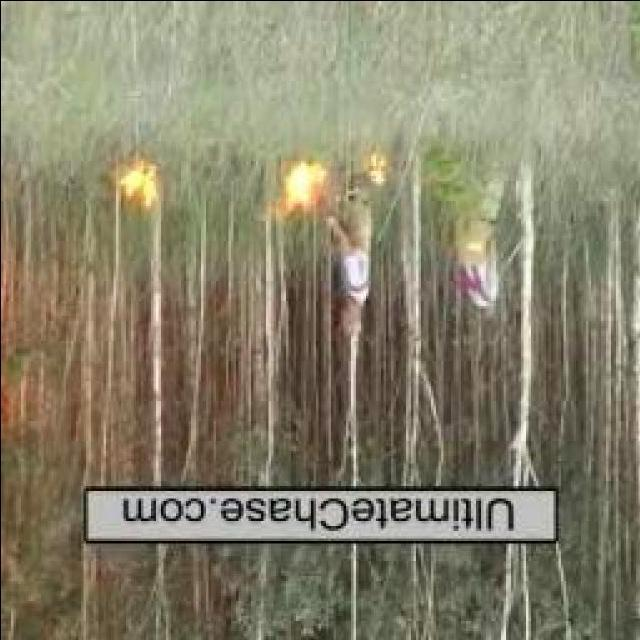Fire: (274, 160, 325, 216), (111, 160, 161, 197), (367, 154, 391, 188)
